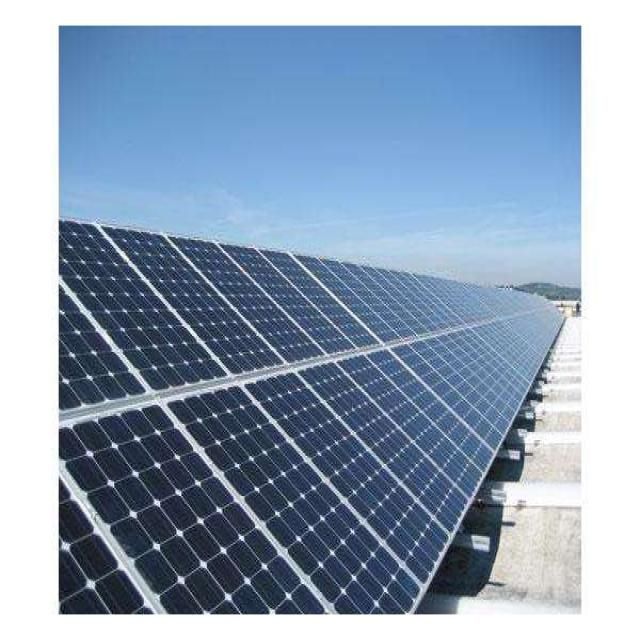clean-solar-panel: (60, 222, 560, 611)
